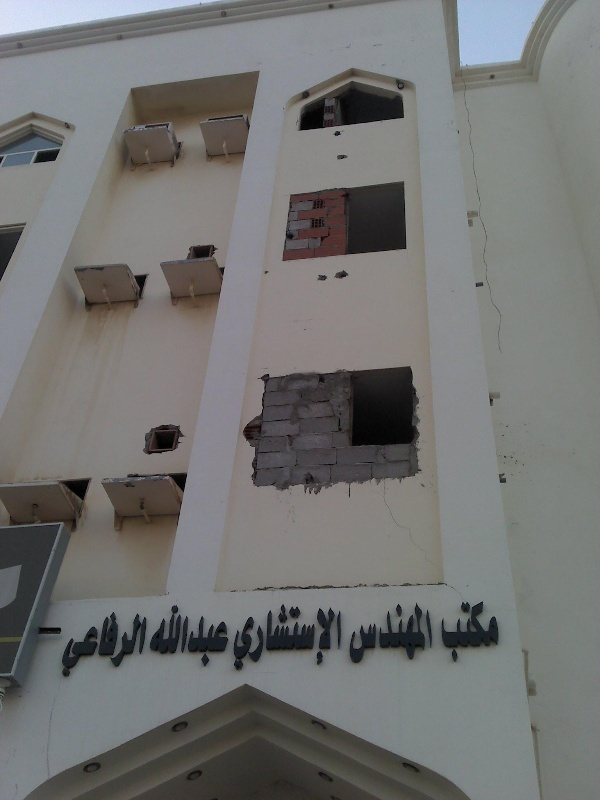text: (241, 602, 256, 674), (257, 602, 272, 674), (273, 602, 288, 674), (289, 602, 304, 674), (305, 602, 320, 674), (321, 602, 336, 674), (65, 611, 80, 679), (81, 611, 96, 679), (97, 611, 112, 679), (113, 611, 128, 679), (129, 611, 144, 679), (161, 604, 176, 670), (177, 604, 192, 670), (193, 604, 208, 670), (209, 604, 224, 670), (449, 601, 464, 664), (465, 601, 480, 664), (481, 601, 496, 664), (353, 602, 368, 664), (369, 602, 384, 664), (385, 602, 400, 664), (401, 602, 416, 664), (417, 602, 432, 664), (147, 604, 160, 670), (439, 601, 448, 664), (337, 602, 344, 674), (235, 602, 240, 674), (145, 611, 150, 679), (225, 604, 230, 670), (347, 602, 352, 664), (497, 601, 501, 664), (433, 602, 435, 664)
